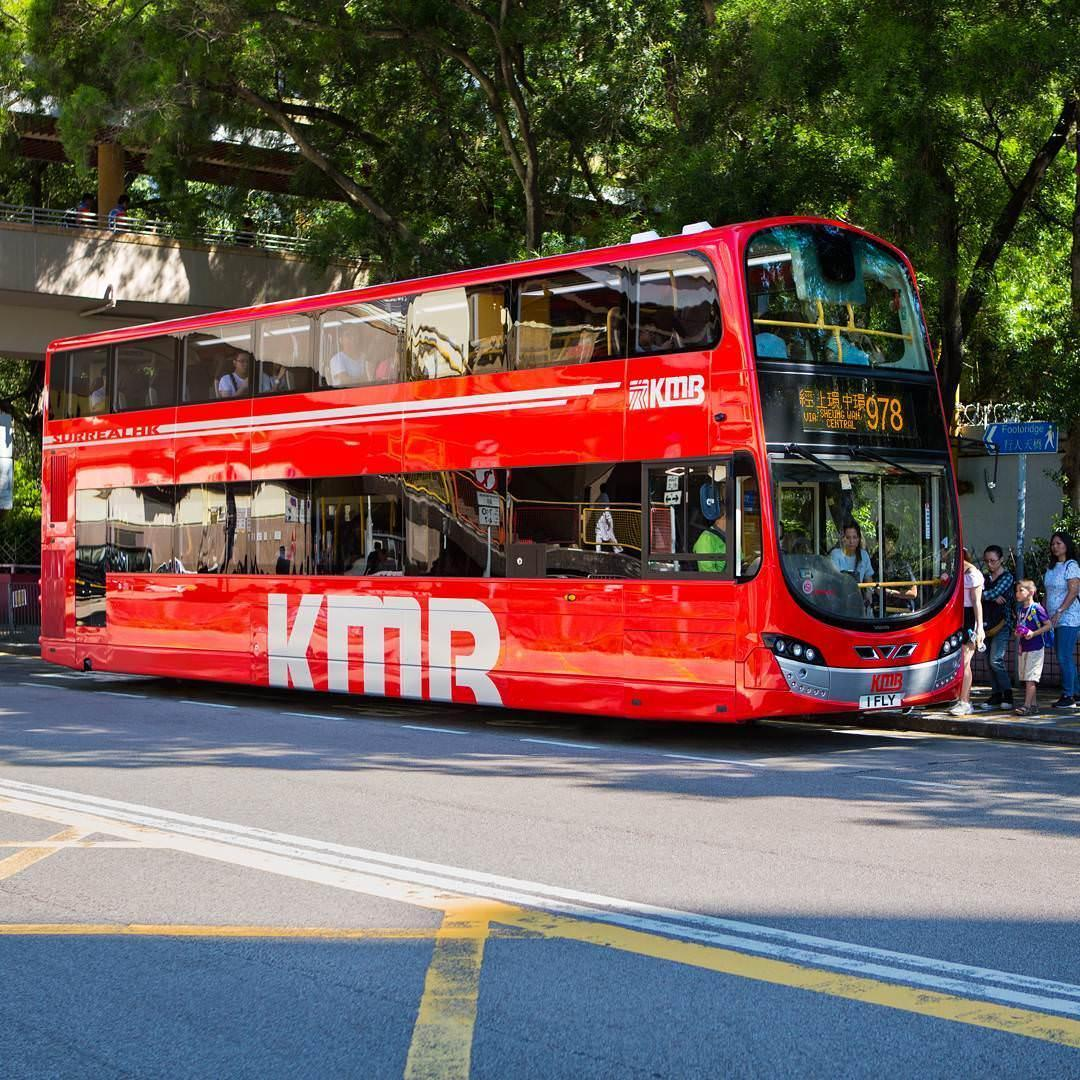Bus: (36, 217, 976, 729)
